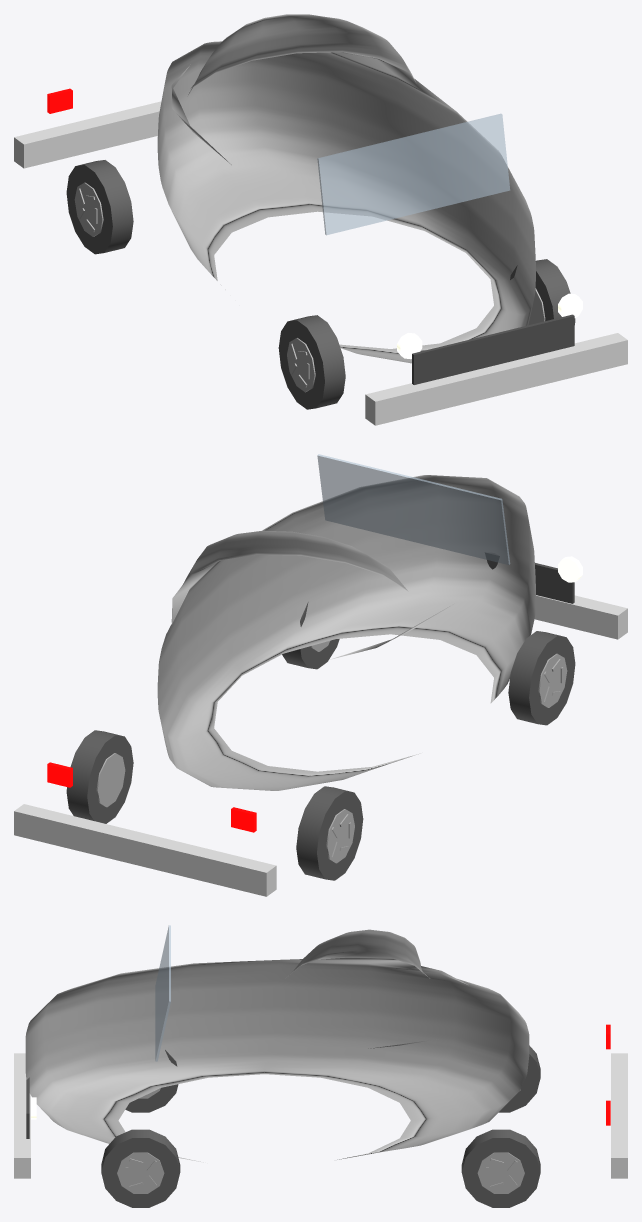
File: truck.glb
3 views of the same model, one above another, from view 1: azimuth 30°, elevation 25°; view 2: azimuth 150°, elevation 25°; view 3: azimuth 270°, elevation 25° (orthographic). The views are drawn at different scales.
Parts seen in each view (by area): view 1: TruckBody, windshield, front_bumper, grille, wheel_RL, wheel_FL, rear_bumper, wheel_FR; view 2: TruckBody, windshield, rear_bumper, wheel_FL, wheel_RL, wheel_RR, front_bumper, grille, wheel_FR; view 3: TruckBody, wheel_FR, wheel_RR, rear_bumper, front_bumper, windshield, wheel_RL, wheel_FL.
Boxes of the visible parts, x1,y1,x2,y2 form: TruckBody: (157, 14, 535, 363); windshield: (317, 113, 509, 235); front_bumper: (365, 333, 627, 425); grille: (412, 314, 574, 384); wheel_RL: (66, 160, 133, 254); wheel_FL: (278, 315, 345, 409); rear_bumper: (14, 101, 161, 168); wheel_FR: (510, 259, 575, 325); TruckBody: (157, 475, 535, 790); windshield: (317, 454, 510, 564); rear_bumper: (14, 804, 276, 896); wheel_FL: (508, 631, 575, 725); wheel_RL: (296, 786, 363, 880); wheel_RR: (66, 730, 133, 823); front_bumper: (534, 595, 627, 639); grille: (485, 552, 574, 603); wheel_FR: (282, 602, 339, 669); TruckBody: (25, 929, 529, 1162); wheel_FR: (101, 1129, 180, 1207); wheel_RR: (461, 1129, 540, 1207); rear_bumper: (611, 1053, 627, 1178); front_bumper: (14, 1053, 30, 1178); windshield: (155, 925, 170, 1061); wheel_RL: (499, 1045, 540, 1112); wheel_FL: (125, 1050, 178, 1112).
Size of the model in its own units: 2.22 by 1.98 by 5.45.
